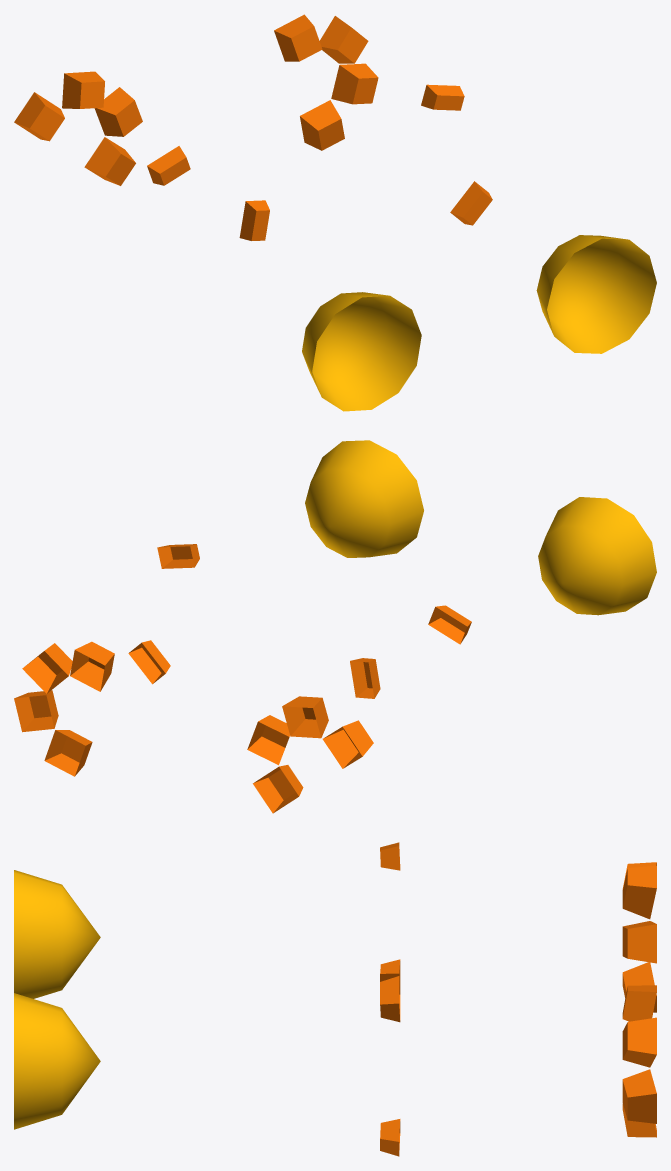
File: Raptor2.fbx
3 renders of one model, top to bottom at view 1: azimuth 30°, elevation 25°; view 2: azimuth 150°, elevation 25°; view 3: azimuth 270°, elevation 25°, orthographic. The views are drawn at different scales.
Visible parts, largest first — view 1: EngineGlo, EngineGlo01; view 2: EngineGlo, EngineGlo01; view 3: EngineGlo, EngineGlo01.
Part boxes in pixels (left/top/right/bottom): EngineGlo: left=274, top=14, right=656, bottom=353; EngineGlo01: left=14, top=71, right=421, bottom=411; EngineGlo: left=14, top=440, right=423, bottom=776; EngineGlo01: left=247, top=497, right=656, bottom=813; EngineGlo: left=14, top=976, right=656, bottom=1156; EngineGlo01: left=14, top=842, right=656, bottom=1012.
Size of the model in its own units: 15.13 by 6.04 by 21.92.
